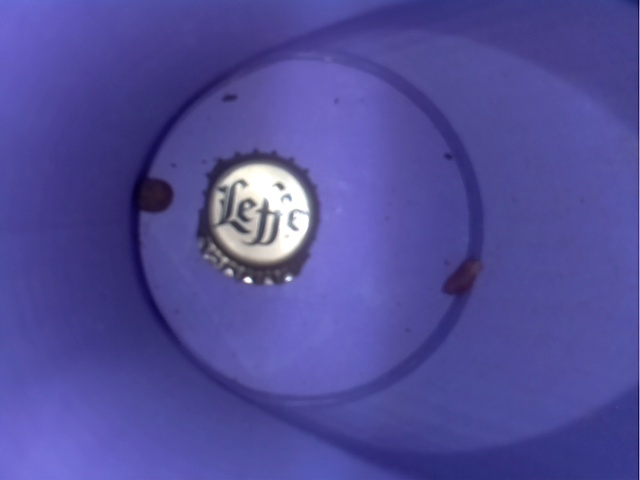capsule: (188, 145, 326, 299)
croquette: (433, 241, 491, 310), (126, 171, 176, 215)
